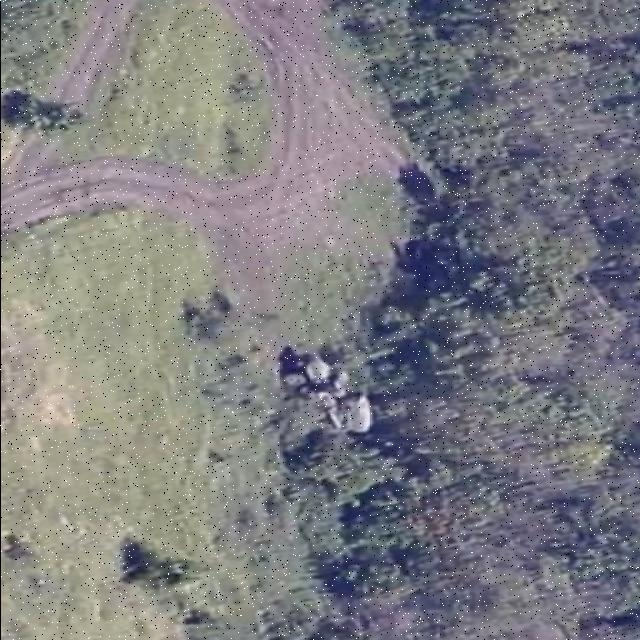MLRS: (276, 349, 386, 440)
